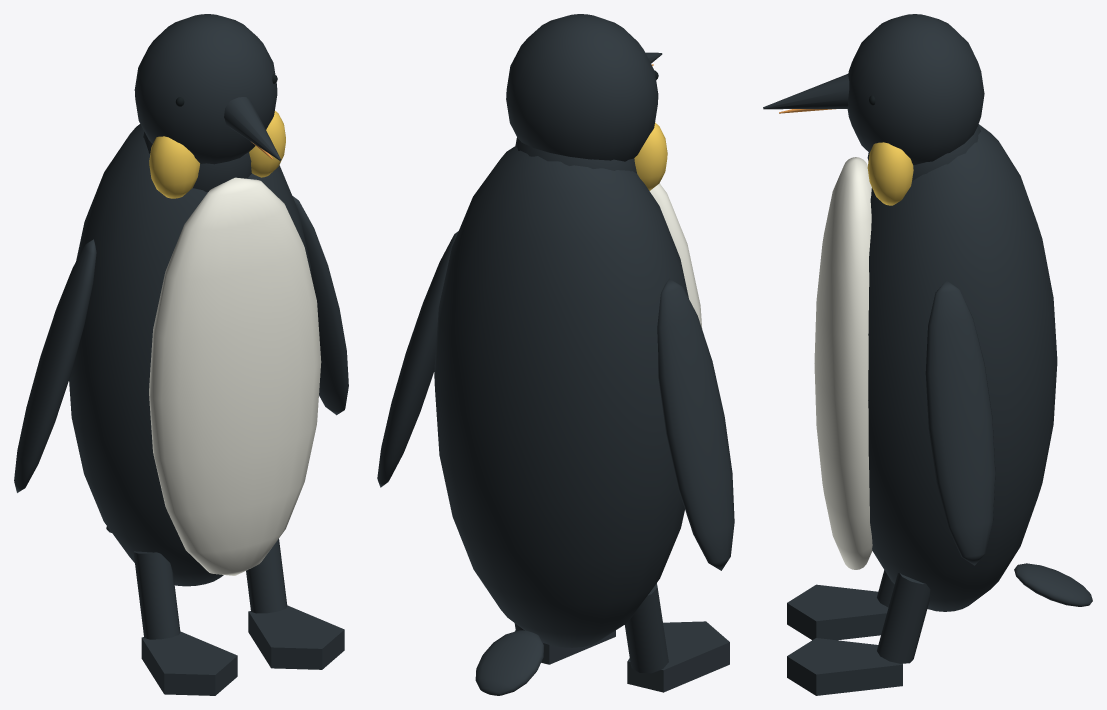
Rendered from bird_emperor_penguin.glb.
The picture shows the model from 3 angles, left to right: view 1: azimuth 30°, elevation 25°; view 2: azimuth 150°, elevation 25°; view 3: azimuth 270°, elevation 25°; orthographic projection. The views are drawn at different scales.
Parts seen in each view (by area): view 1: Emperor_Penguin_White_Belly, Emperor_Penguin_Black_Body, Emperor_Penguin_Head, Emperor_Penguin_Flipper_-1, Emperor_Penguin_Foot_1, Emperor_Penguin_Foot_-1, Emperor_Penguin_Flipper_1, Emperor_Penguin_Ankle_-1, Emperor_Penguin_Yellow_Neck_Patch_-1, Emperor_Penguin_Ankle_1, Emperor_Penguin_Long_Beak, Emperor_Penguin_Neck (+1 smaller); view 2: Emperor_Penguin_Black_Body, Emperor_Penguin_Head, Emperor_Penguin_Flipper_-1, Emperor_Penguin_Flipper_1, Emperor_Penguin_Foot_-1, Emperor_Penguin_Short_Tail, Emperor_Penguin_Ankle_-1, Emperor_Penguin_White_Belly, Emperor_Penguin_Yellow_Neck_Patch_-1, Emperor_Penguin_Neck, Emperor_Penguin_Foot_1; view 3: Emperor_Penguin_Black_Body, Emperor_Penguin_White_Belly, Emperor_Penguin_Head, Emperor_Penguin_Flipper_1, Emperor_Penguin_Foot_1, Emperor_Penguin_Foot_-1, Emperor_Penguin_Ankle_1, Emperor_Penguin_Yellow_Neck_Patch_1, Emperor_Penguin_Short_Tail, Emperor_Penguin_Long_Beak, Emperor_Penguin_Neck.
Part boxes in pixels (<box>): Emperor_Penguin_White_Belly: <box>149,177,321,575</box>; Emperor_Penguin_Black_Body: <box>69,124,311,586</box>; Emperor_Penguin_Head: <box>134,14,277,164</box>; Emperor_Penguin_Flipper_-1: <box>14,239,96,492</box>; Emperor_Penguin_Foot_1: <box>248,605,344,669</box>; Emperor_Penguin_Foot_-1: <box>141,631,237,695</box>; Emperor_Penguin_Flipper_1: <box>292,196,348,415</box>; Emperor_Penguin_Ankle_-1: <box>133,551,180,639</box>; Emperor_Penguin_Yellow_Neck_Patch_-1: <box>149,136,199,198</box>; Emperor_Penguin_Ankle_1: <box>246,539,287,613</box>; Emperor_Penguin_Long_Beak: <box>224,97,280,160</box>; Emperor_Penguin_Neck: <box>143,132,251,192</box>; Emperor_Penguin_Black_Body: <box>434,146,688,647</box>; Emperor_Penguin_Head: <box>506,14,658,161</box>; Emperor_Penguin_Flipper_-1: <box>657,278,734,570</box>; Emperor_Penguin_Flipper_1: <box>377,231,458,487</box>; Emperor_Penguin_Foot_-1: <box>627,621,729,692</box>; Emperor_Penguin_Short_Tail: <box>475,630,543,695</box>; Emperor_Penguin_Ankle_-1: <box>625,583,668,673</box>; Emperor_Penguin_White_Belly: <box>649,183,702,328</box>; Emperor_Penguin_Yellow_Neck_Patch_-1: <box>634,122,667,190</box>; Emperor_Penguin_Neck: <box>515,137,636,173</box>; Emperor_Penguin_Foot_1: <box>515,630,615,664</box>; Emperor_Penguin_Black_Body: <box>868,124,1057,611</box>; Emperor_Penguin_White_Belly: <box>814,157,872,569</box>; Emperor_Penguin_Head: <box>847,14,984,164</box>; Emperor_Penguin_Flipper_1: <box>925,280,995,565</box>; Emperor_Penguin_Foot_1: <box>787,638,902,695</box>; Emperor_Penguin_Foot_-1: <box>787,584,888,640</box>; Emperor_Penguin_Ankle_1: <box>877,573,930,663</box>; Emperor_Penguin_Yellow_Neck_Patch_1: <box>867,142,913,205</box>; Emperor_Penguin_Short_Tail: <box>1014,563,1092,606</box>; Emperor_Penguin_Long_Beak: <box>763,74,849,109</box>; Emperor_Penguin_Neck: <box>867,125,980,180</box>.
Bounding box in the file's own units: 0.5871 × 1.06 × 0.5023.
